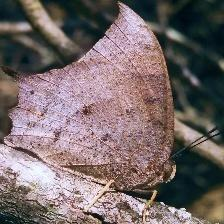butterfly: (5, 3, 176, 190)
